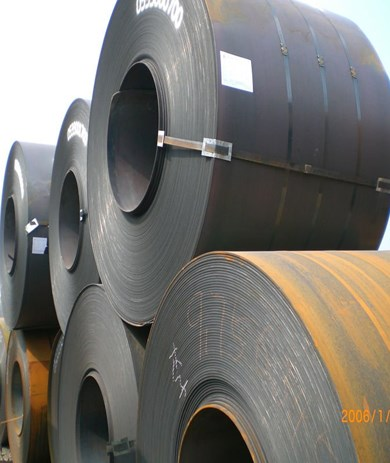steel-coil: (47, 6, 389, 289), (55, 282, 375, 461)
